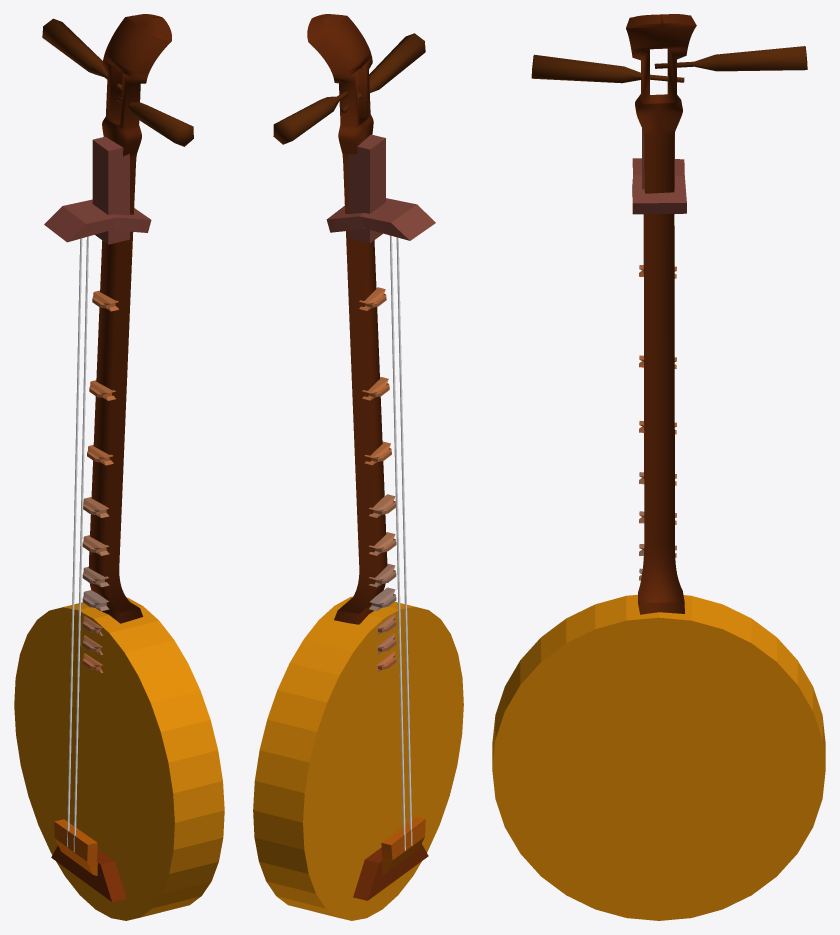
File: dan_nguyet.gltf
3 views of the same model, side by side, from view 1: azimuth 30°, elevation 25°; view 2: azimuth 150°, elevation 25°; view 3: azimuth 270°, elevation 25° (orthographic). The views are drawn at different scales.
Visible parts, largest first — view 1: Cylinder, BezierCurve.002, Cube.013, Cylinder.002, Cube.014, Cylinder.004, Cylinder.003, Cube, Cube.002; view 2: Cylinder, BezierCurve.002, Cylinder.002, Cube.013, Cube.014, Cylinder.003, Cylinder.004, Cube, Cube.002; view 3: Cylinder, BezierCurve.002, Cylinder.002, Cube.014.
Boxes of the visible parts, left/top/right/bottom form: Cylinder: left=14, top=597, right=224, bottom=920; BezierCurve.002: left=88, top=14, right=171, bottom=623; Cube.013: left=92, top=136, right=129, bottom=244; Cylinder.002: left=42, top=18, right=193, bottom=146; Cube.014: left=44, top=199, right=151, bottom=242; Cylinder.004: left=73, top=236, right=88, bottom=851; Cylinder.003: left=67, top=238, right=82, bottom=846; Cube: left=51, top=845, right=126, bottom=902; Cube.002: left=54, top=819, right=97, bottom=875; Cylinder: left=253, top=596, right=463, bottom=920; BezierCurve.002: left=307, top=14, right=387, bottom=624; Cylinder.002: left=273, top=33, right=425, bottom=144; Cube.013: left=348, top=134, right=385, bottom=243; Cube.014: left=326, top=198, right=435, bottom=240; Cylinder.003: left=389, top=235, right=405, bottom=850; Cylinder.004: left=396, top=237, right=412, bottom=845; Cube: left=353, top=844, right=428, bottom=900; Cube.002: left=381, top=817, right=425, bottom=874; Cylinder: left=492, top=594, right=825, bottom=920; BezierCurve.002: left=626, top=14, right=696, bottom=614; Cylinder.002: left=531, top=46, right=807, bottom=83; Cube.014: left=632, top=158, right=686, bottom=214.
Bounding box in the file's own units: 0.9745 × 7.43 × 2.47.
